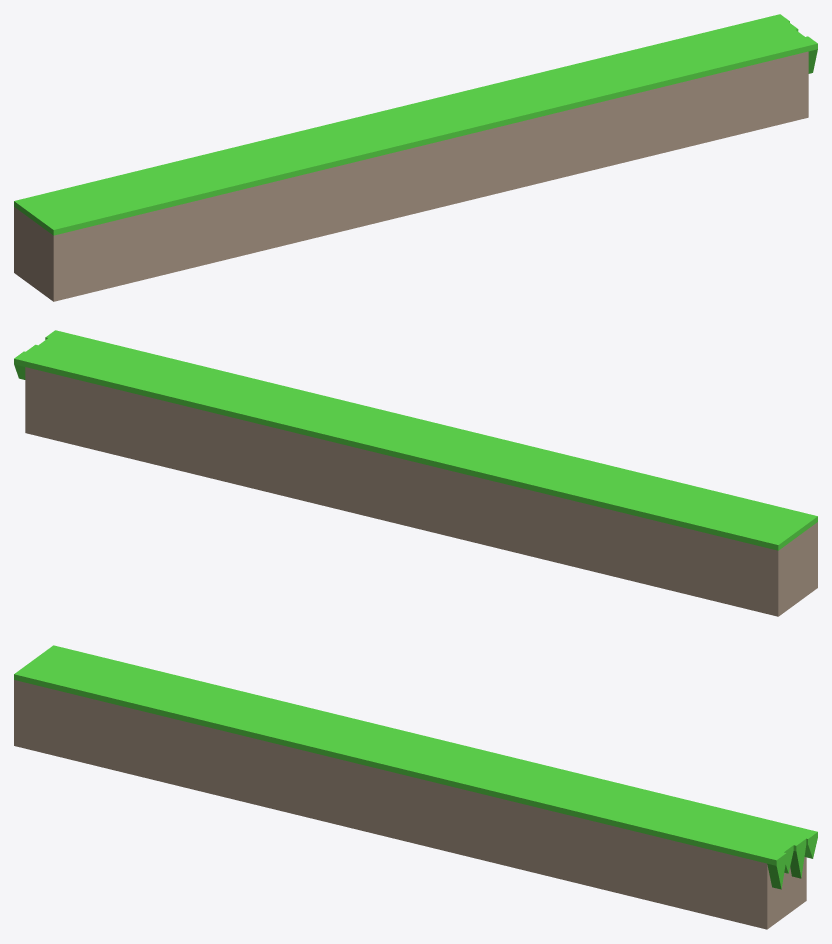
Rendered from GroundCube.fbx.
The picture shows the model from 3 angles, top to bottom: view 1: azimuth 30°, elevation 25°; view 2: azimuth 150°, elevation 25°; view 3: azimuth 330°, elevation 25°; orthographic projection.
Visible parts, largest first — view 1: Cube; view 2: Cube; view 3: Cube.
Boxes of the visible parts, left/top/right/bottom form: Cube: left=14, top=14, right=817, bottom=301; Cube: left=14, top=330, right=817, bottom=616; Cube: left=14, top=645, right=817, bottom=929.
Bounding box in the file's own units: 200 × 200 × 2233.
